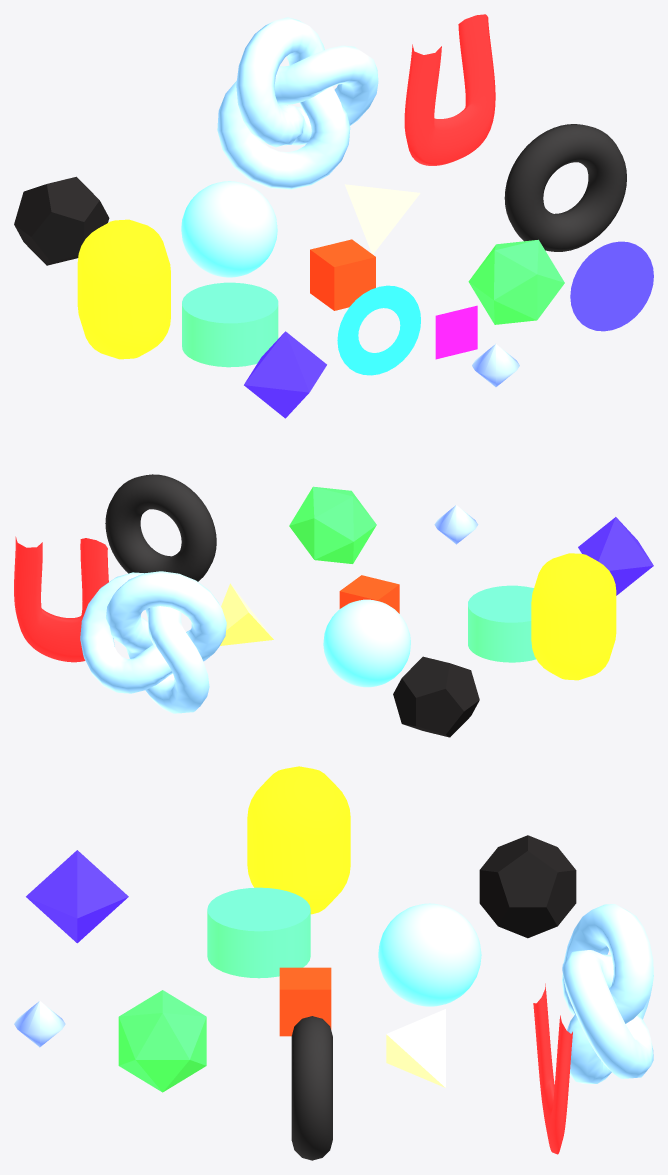
The model's file is three.js_shapes2.gltf.
3 views of the same model, one above another, from view 1: azimuth 30°, elevation 25°; view 2: azimuth 150°, elevation 25°; view 3: azimuth 270°, elevation 25° (orthographic). The views are drawn at different scales.
Visible parts, largest first — view 1: TorusKnot, Capsule, Torus, Tube, Sphere, Cylinder, Circle, Icosahedron, Dodecahedron, Ring, Octahedron, Box (+3 smaller); view 2: TorusKnot, Capsule, Torus, Sphere, Tube, Dodecahedron, Icosahedron, Cylinder, Octahedron, Tetrahedron, Box, Lathe; view 3: TorusKnot, Capsule, Sphere, Cylinder, Dodecahedron, Icosahedron, Torus, Octahedron, Tube, Tetrahedron, Box, Lathe.
Boxes of the visible parts, left/top/right/bottom form: TorusKnot: left=217, top=17, right=378, bottom=189; Capsule: left=77, top=219, right=170, bottom=359; Torus: left=504, top=124, right=626, bottom=251; Tube: left=404, top=14, right=495, bottom=165; Sphere: left=181, top=181, right=277, bottom=277; Cylinder: left=182, top=282, right=278, bottom=367; Circle: left=570, top=241, right=653, bottom=331; Icosahedron: left=468, top=239, right=564, bottom=324; Dodecahedron: left=14, top=176, right=109, bottom=265; Ring: left=337, top=285, right=420, bottom=375; Octahedron: left=244, top=331, right=326, bottom=418; Box: left=310, top=239, right=375, bottom=310; TorusKnot: left=80, top=571, right=226, bottom=713; Capsule: left=531, top=553, right=616, bottom=680; Torus: left=105, top=474, right=216, bottom=581; Sphere: left=323, top=599, right=410, bottom=687; Tube: left=14, top=536, right=108, bottom=662; Dodecahedron: left=393, top=656, right=479, bottom=737; Icosahedron: left=289, top=486, right=376, bottom=563; Cylinder: left=468, top=585, right=535, bottom=662; Octahedron: left=578, top=517, right=653, bottom=595; Tetrahedron: left=220, top=583, right=273, bottom=645; Box: left=339, top=575, right=399, bottom=613; Lathe: left=434, top=505, right=478, bottom=544; TorusKnot: left=562, top=904, right=653, bottom=1083; Capsule: left=247, top=766, right=350, bottom=914; Sphere: left=378, top=903, right=481, bottom=1006; Cylinder: left=207, top=887, right=310, bottom=978; Dodecahedron: left=479, top=835, right=576, bottom=938; Icosahedron: left=118, top=990, right=206, bottom=1092; Torus: left=291, top=1016, right=332, bottom=1160; Octahedron: left=26, top=850, right=128, bottom=943; Tube: left=533, top=983, right=572, bottom=1154; Tetrahedron: left=386, top=1009, right=445, bottom=1087; Box: left=279, top=967, right=331, bottom=1036; Lathe: left=14, top=1001, right=65, bottom=1047.
Bounding box in the file's own units: 13.1 × 3.6 × 12.38.
